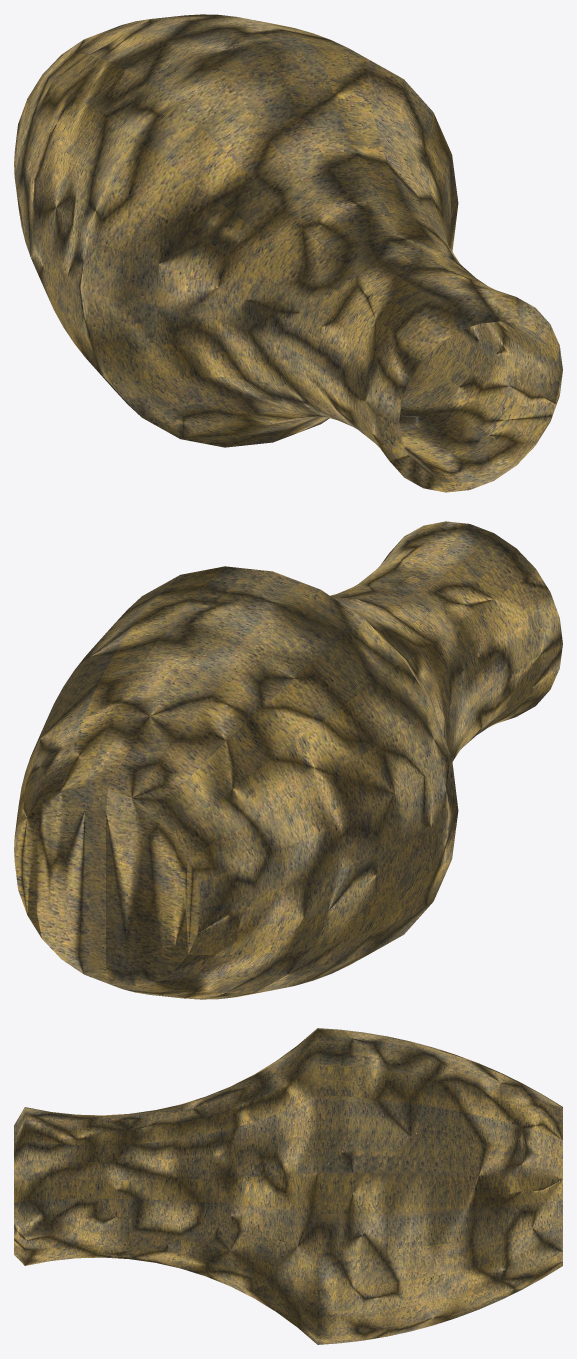
Rendered from model_align.obj.
3 renders of one model, top to bottom at view 1: azimuth 30°, elevation 25°; view 2: azimuth 150°, elevation 25°; view 3: azimuth 270°, elevation 25°, orthographic. The views are drawn at different scales.
Size of the model in its own units: 0.0916 by 0.0916 by 0.1581.
